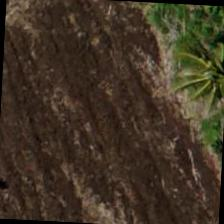Kelapa_Sawit: (177, 27, 223, 121)
